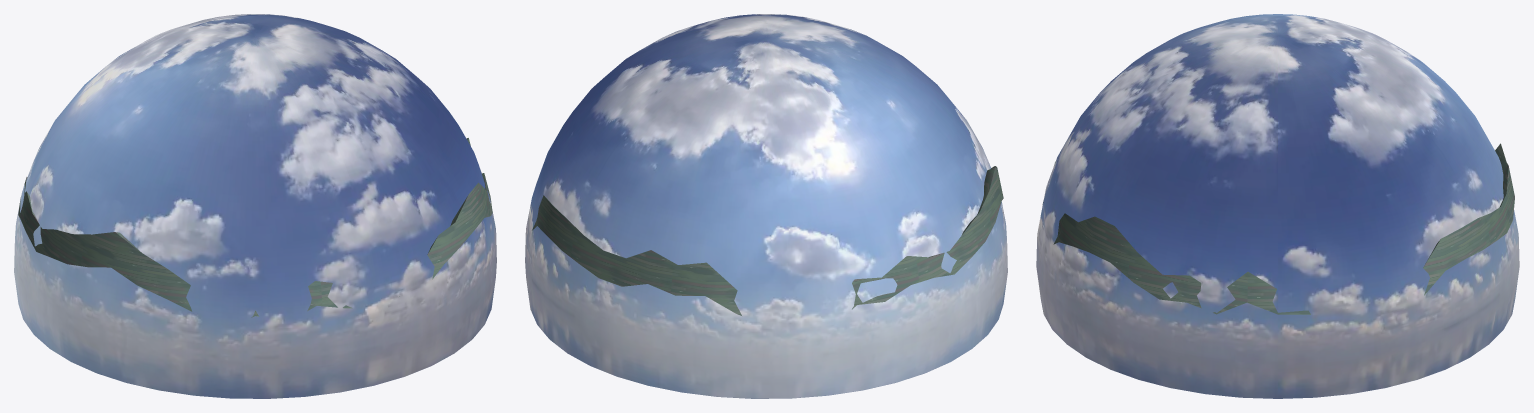
The model's file is crush-CTVIDhht.glb.
The picture shows the model from 3 angles, left to right: view 1: azimuth 30°, elevation 25°; view 2: azimuth 150°, elevation 25°; view 3: azimuth 270°, elevation 25°; orthographic projection.
Visible parts, largest first — view 1: SET_sky, SET_backdrop; view 2: SET_sky, SET_backdrop; view 3: SET_sky, SET_backdrop.
Boxes of the visible parts, <box> form: SET_sky: <box>14,14,496,398</box>; SET_backdrop: <box>18,138,492,317</box>; SET_sky: <box>525,14,1007,398</box>; SET_backdrop: <box>532,166,1003,315</box>; SET_sky: <box>1036,14,1519,398</box>; SET_backdrop: <box>1042,143,1514,314</box>.
Bounding box in the file's own units: 300 × 179 × 300.
28 materials, 14 textured.
